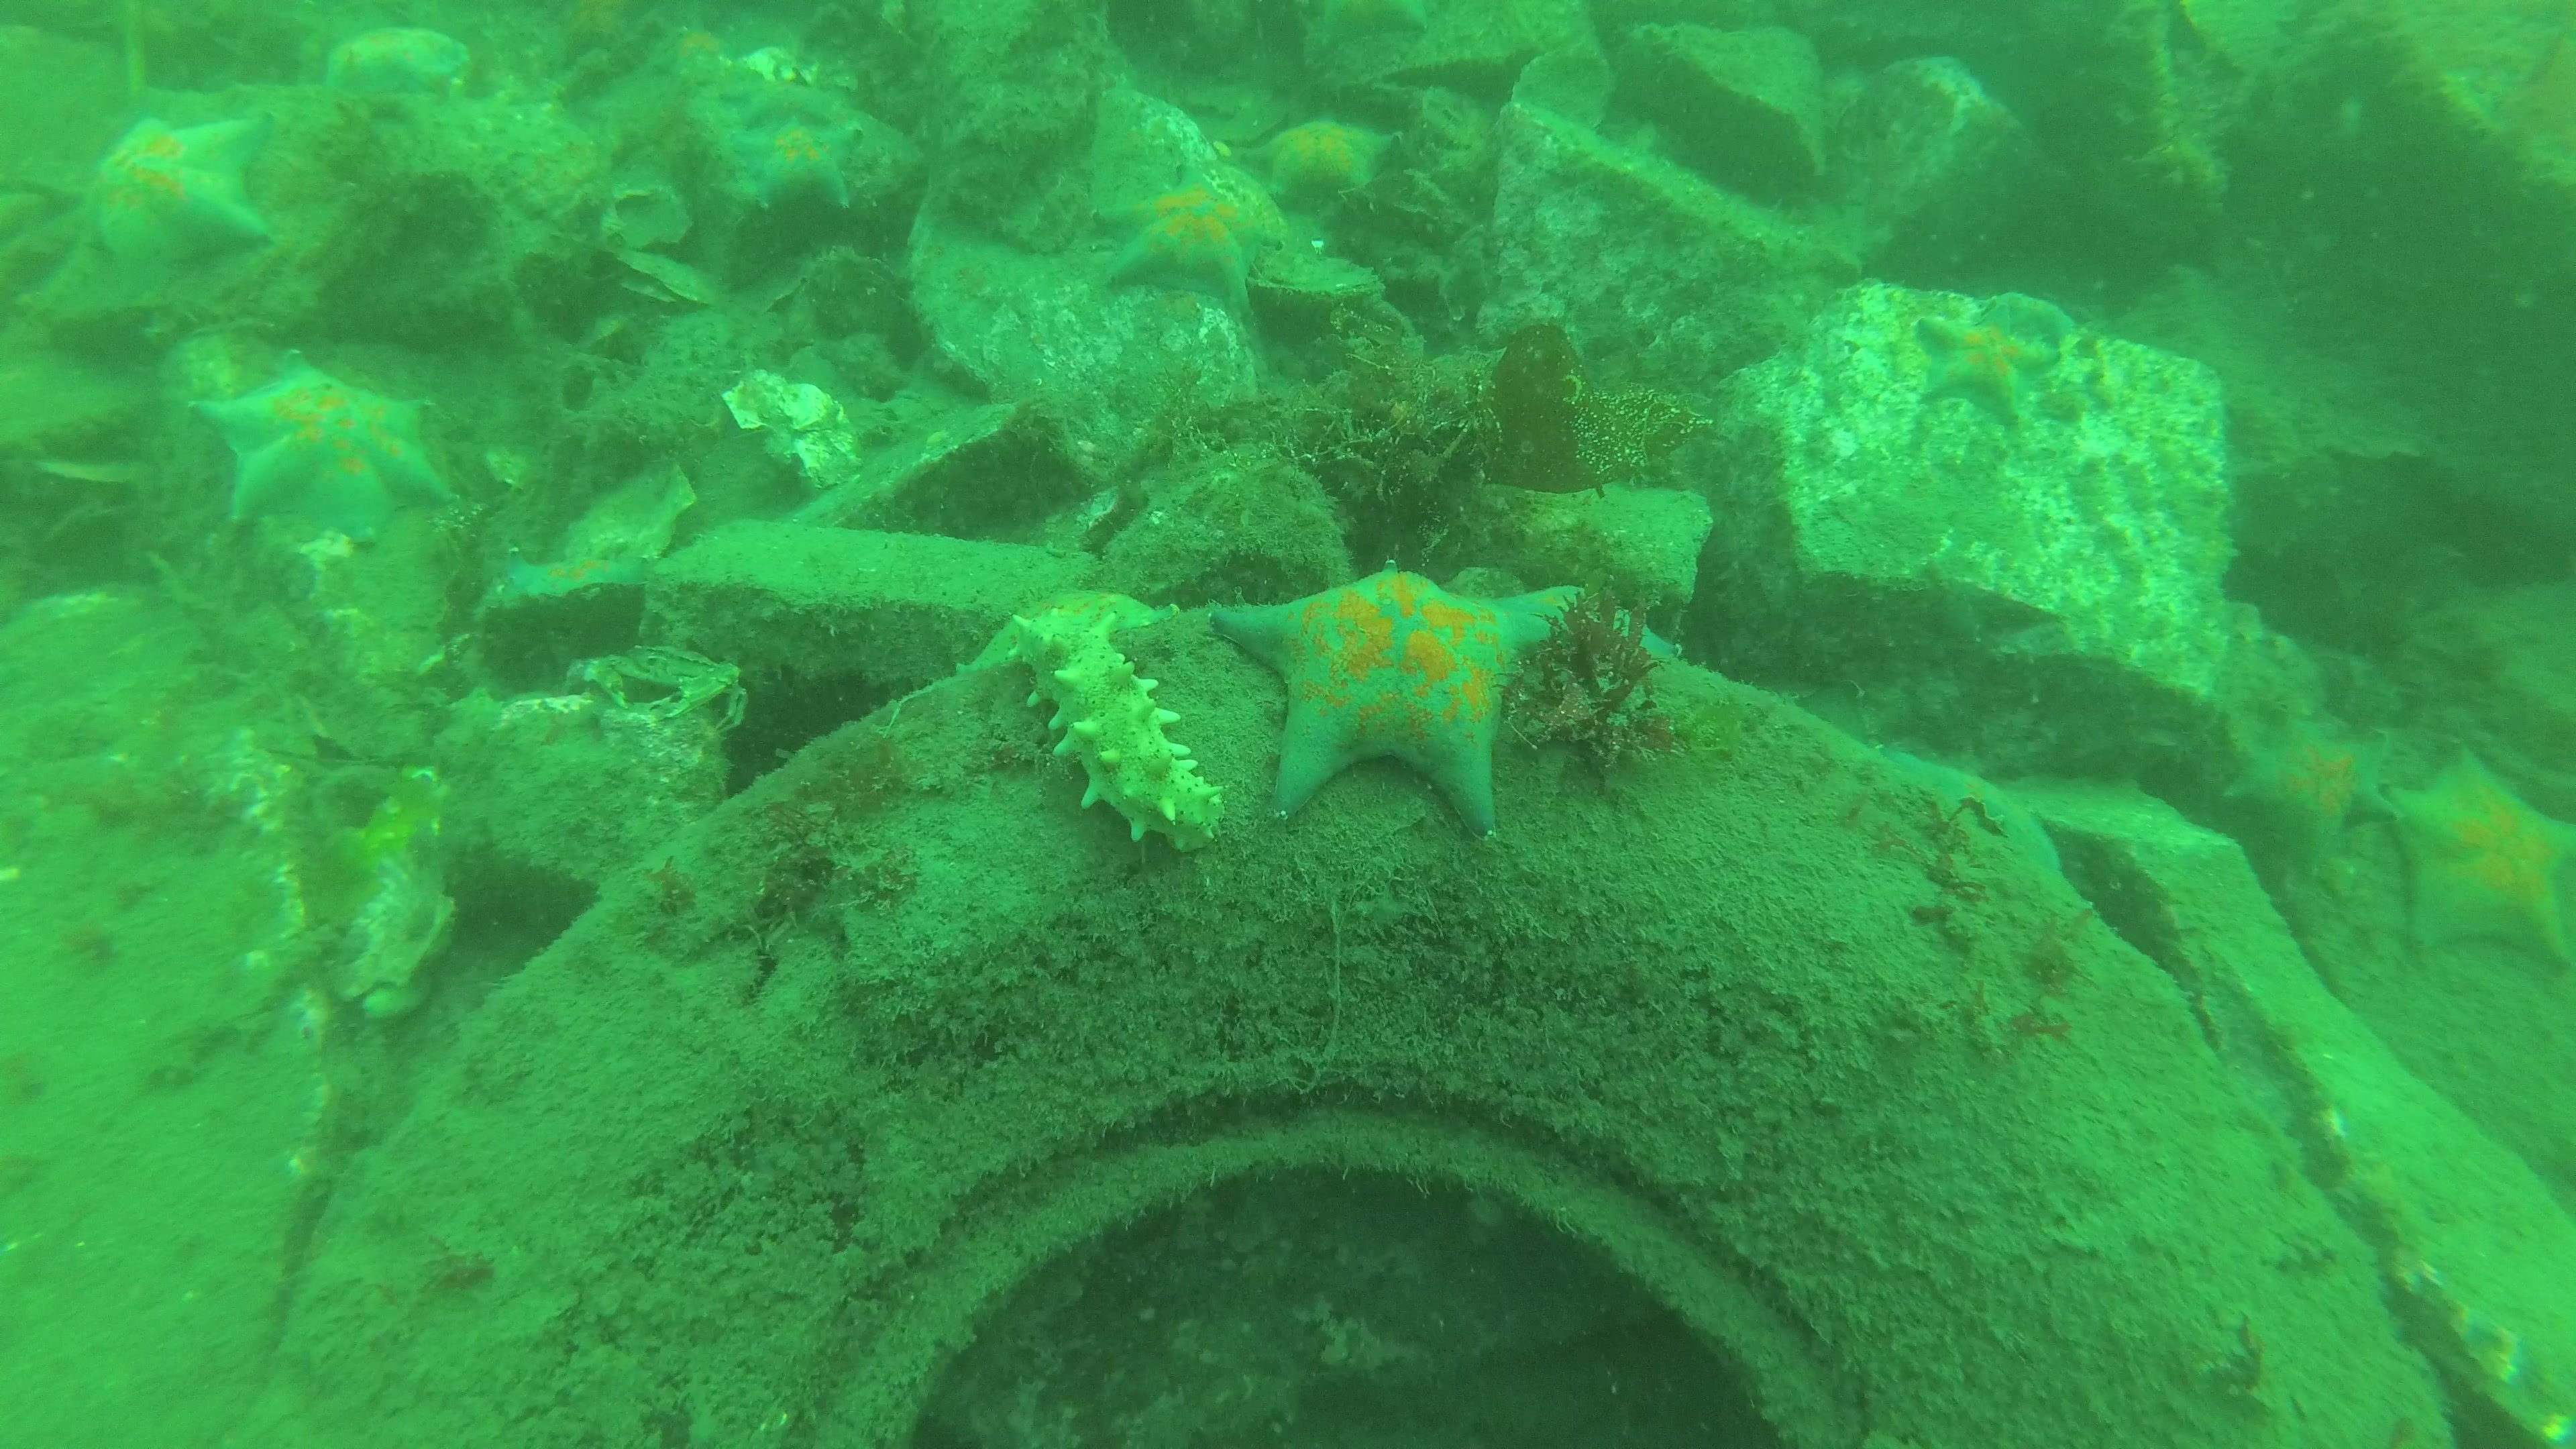holothurian: (1007, 602, 1228, 858)
starfish: (1210, 557, 1587, 839), (196, 357, 458, 556), (44, 104, 272, 301), (2380, 748, 2572, 959), (2222, 686, 2401, 874), (1095, 172, 1288, 320), (1911, 290, 2054, 430), (717, 115, 863, 214), (306, 27, 474, 111), (497, 531, 653, 607), (1254, 113, 1401, 191), (655, 18, 747, 81)
